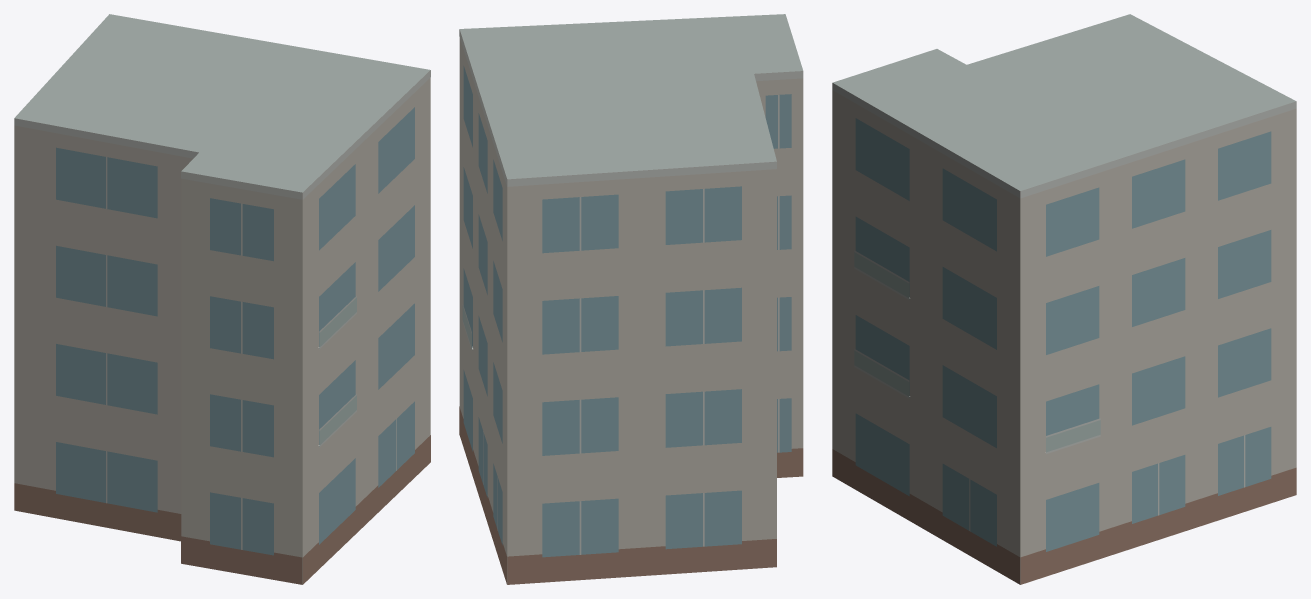
Rendered from survey-upis-32989628.glb.
The picture shows the model from 3 angles, left to right: view 1: azimuth 30°, elevation 25°; view 2: azimuth 150°, elevation 25°; view 3: azimuth 270°, elevation 25°; orthographic projection. The views are drawn at different scales.
Parts seen in each view (by area): view 1: survey-upis-32989628.tmp; view 2: survey-upis-32989628.tmp; view 3: survey-upis-32989628.tmp.
Boxes of the visible parts, x1=… form: survey-upis-32989628.tmp: x1=14, y1=14, x2=430, y2=584; survey-upis-32989628.tmp: x1=459, y1=14, x2=803, y2=584; survey-upis-32989628.tmp: x1=832, y1=14, x2=1296, y2=584.
Size of the model in its own units: 12.75 by 13.2 by 14.11.
